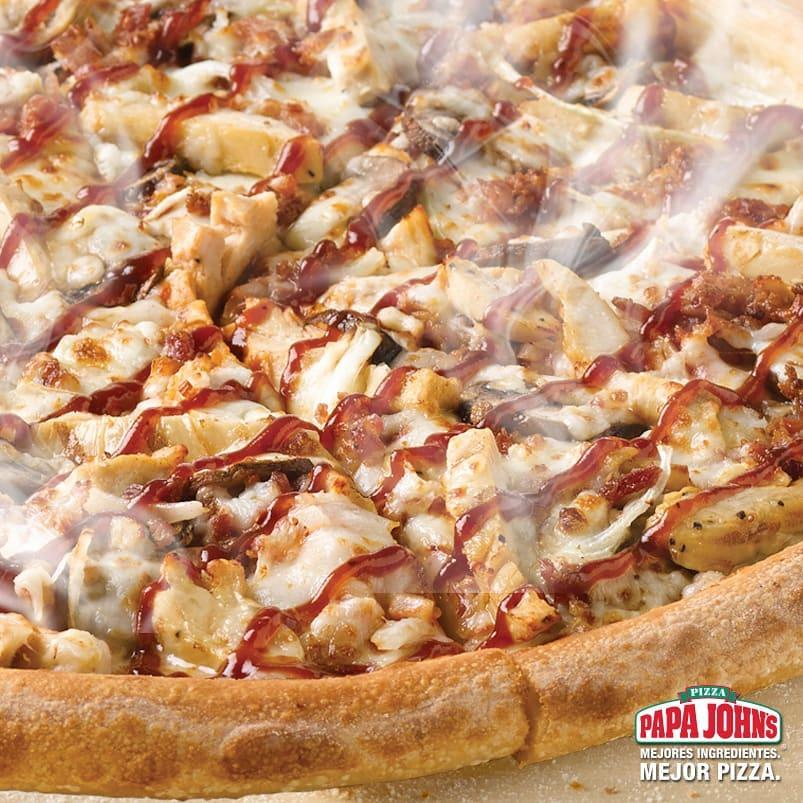Cheese: (245, 478, 405, 625), (5, 306, 157, 413), (300, 306, 441, 398), (163, 335, 264, 447), (300, 198, 401, 300), (543, 373, 674, 435), (32, 215, 152, 281), (403, 255, 512, 318), (598, 220, 696, 290), (686, 409, 769, 473)
Chicken: (445, 433, 558, 636), (75, 95, 325, 186), (64, 517, 159, 671), (0, 444, 188, 517), (167, 190, 282, 309), (645, 483, 803, 567), (508, 0, 690, 66), (619, 84, 803, 149), (533, 256, 634, 371), (603, 368, 732, 448), (324, 0, 395, 103), (606, 146, 702, 218), (475, 169, 578, 234), (705, 220, 803, 288), (190, 15, 304, 59), (33, 25, 111, 71), (13, 89, 71, 141)
Pizza: (0, 0, 803, 791)
